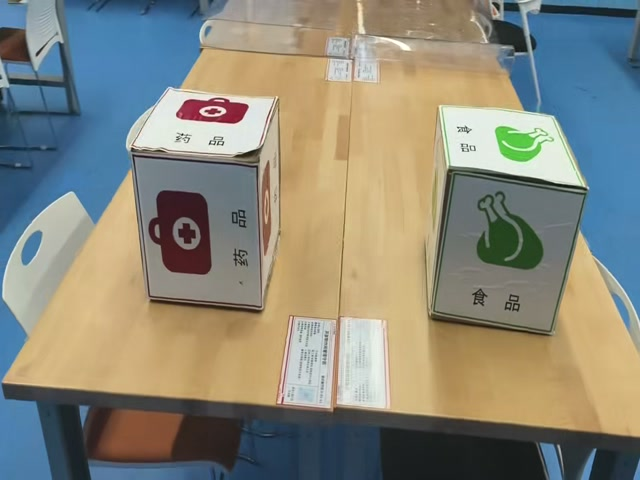Cube_food: (441, 101, 585, 194)
Cube_medicine: (120, 87, 274, 162)
